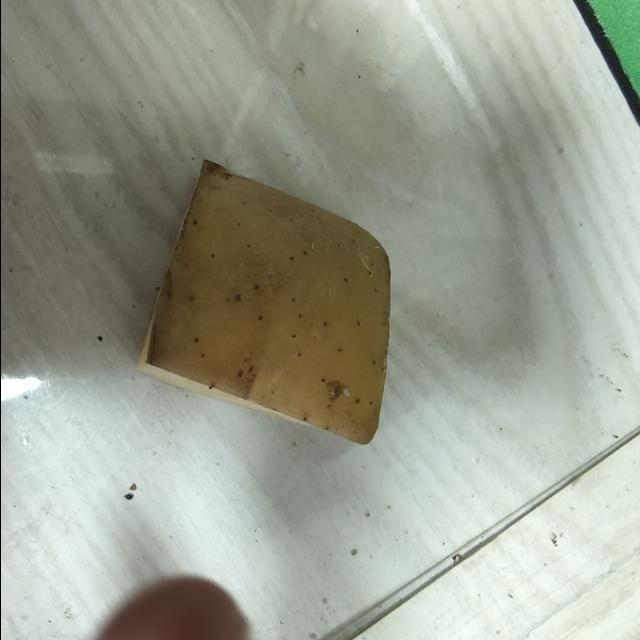-Kitchen waste - potato-: (140, 160, 395, 448)
